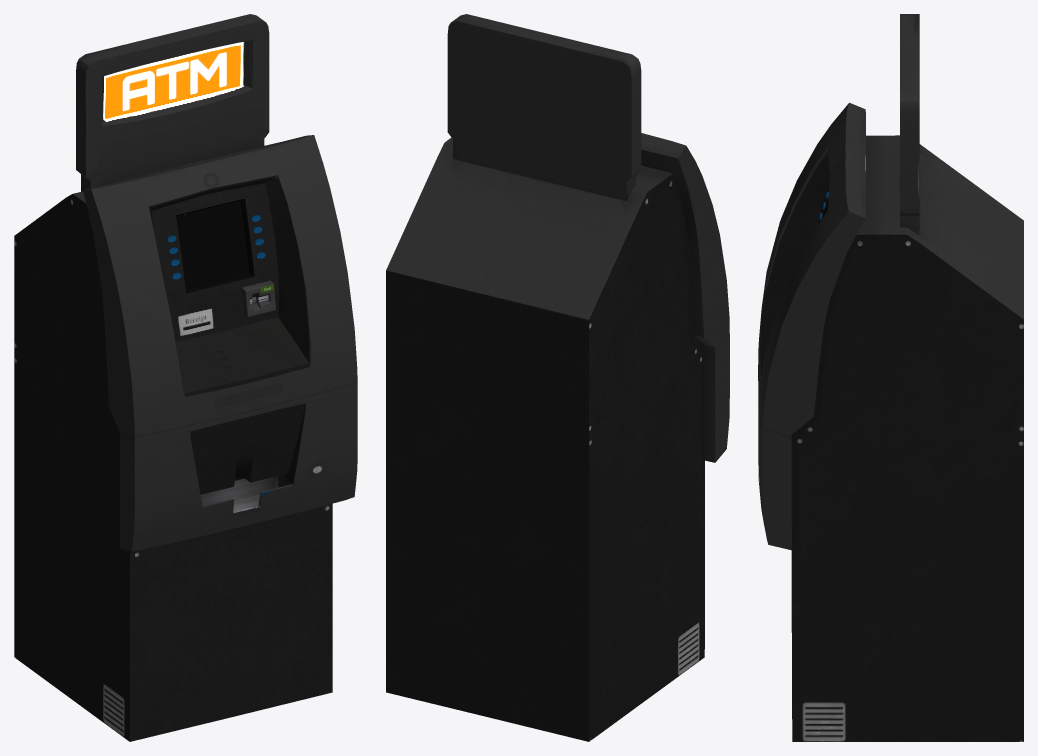
File: ATM_Black.fbx
The picture shows the model from 3 angles, left to right: view 1: azimuth 30°, elevation 25°; view 2: azimuth 150°, elevation 25°; view 3: azimuth 270°, elevation 25°; orthographic projection.
Parts seen in each view (by area): view 1: ATM_Black; view 2: ATM_Black; view 3: ATM_Black.
Part boxes in pixels (x1,y1,x2,y2): ATM_Black: (14,14,357,741); ATM_Black: (386,14,729,741); ATM_Black: (758,14,1023,741).
Bounding box in the file's own units: 21.08 × 57.51 × 21.72.
2 materials, 2 textured.
